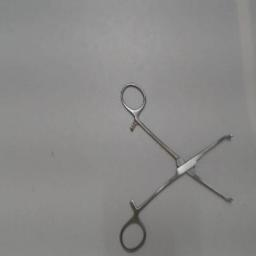Allis Tissue Forceps: (117, 80, 237, 254)
